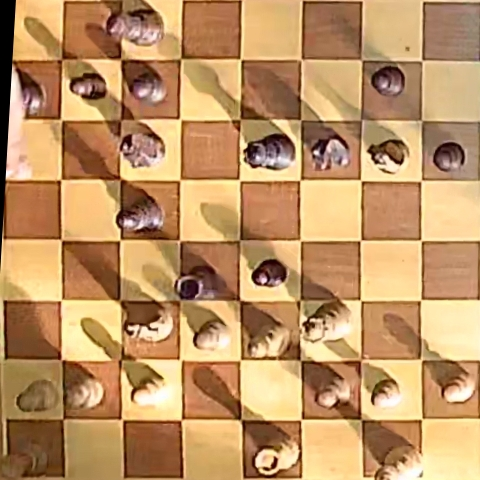black-bishop: (113, 196, 164, 233)
black-king: (105, 9, 163, 46)
black-knight: (120, 133, 165, 168), (311, 136, 351, 170)
black-pawn: (131, 70, 167, 104), (371, 66, 405, 97), (251, 259, 287, 288), (70, 73, 107, 100), (433, 142, 466, 172), (22, 83, 45, 114)
black-queen: (244, 134, 295, 170)
black-rook: (175, 266, 217, 300)
white-bishop: (247, 320, 294, 358)
white-king: (376, 446, 423, 480)
white-knight: (125, 302, 175, 344), (367, 139, 409, 173)
white-pawn: (16, 380, 58, 413), (65, 376, 103, 411), (315, 373, 351, 408), (194, 320, 230, 352), (131, 376, 169, 406), (442, 371, 476, 403), (371, 379, 402, 409)
white-queen: (303, 300, 351, 344)
white-rook: (3, 440, 49, 478), (255, 438, 299, 476)
